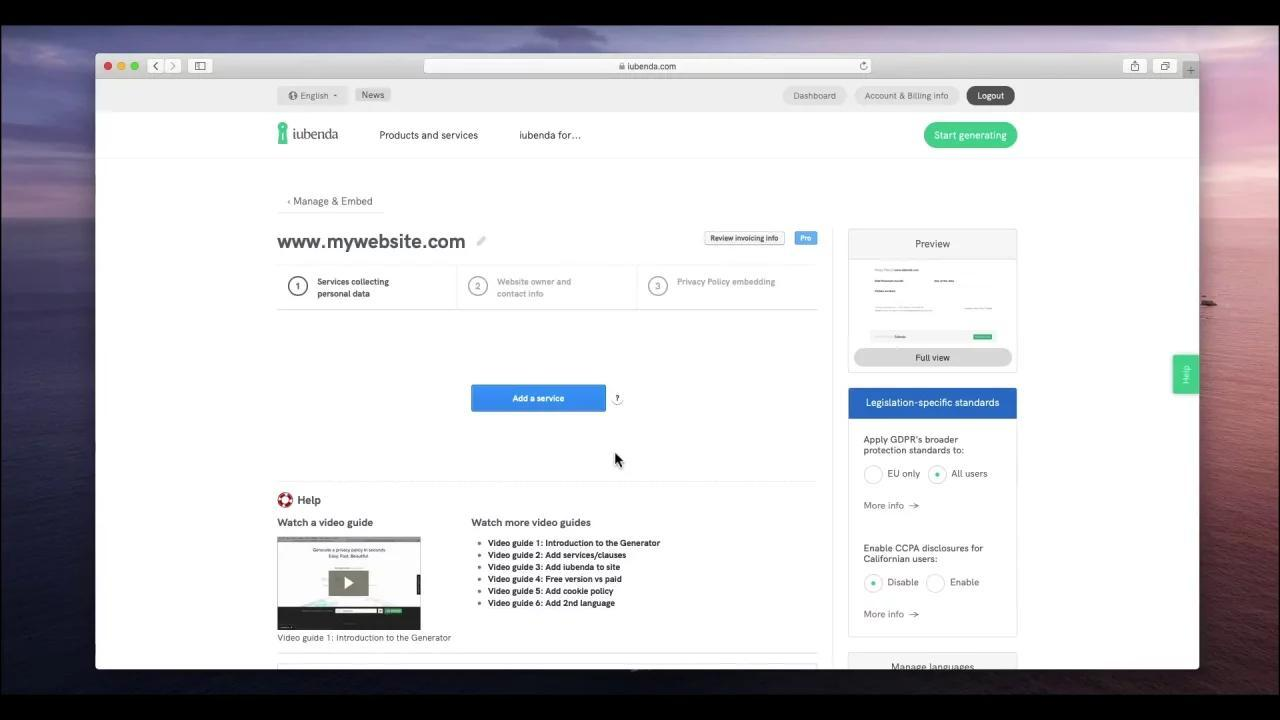button: (471, 384, 608, 414), (855, 348, 1013, 368), (924, 122, 1019, 149), (854, 87, 961, 107), (276, 87, 349, 107), (782, 86, 849, 107), (705, 231, 787, 246), (967, 86, 1016, 107), (354, 86, 393, 104), (796, 231, 819, 247)
label: (268, 236, 488, 254), (491, 276, 578, 302), (863, 434, 965, 456), (468, 516, 593, 531), (315, 277, 391, 299), (379, 128, 481, 142), (277, 517, 376, 531), (281, 196, 379, 210), (675, 276, 777, 289), (517, 131, 585, 143), (952, 469, 989, 480), (887, 469, 922, 480), (295, 495, 324, 508), (887, 579, 920, 588), (949, 579, 982, 588)
radio: (928, 466, 947, 486), (926, 574, 946, 593), (865, 574, 884, 593), (865, 465, 883, 485)
